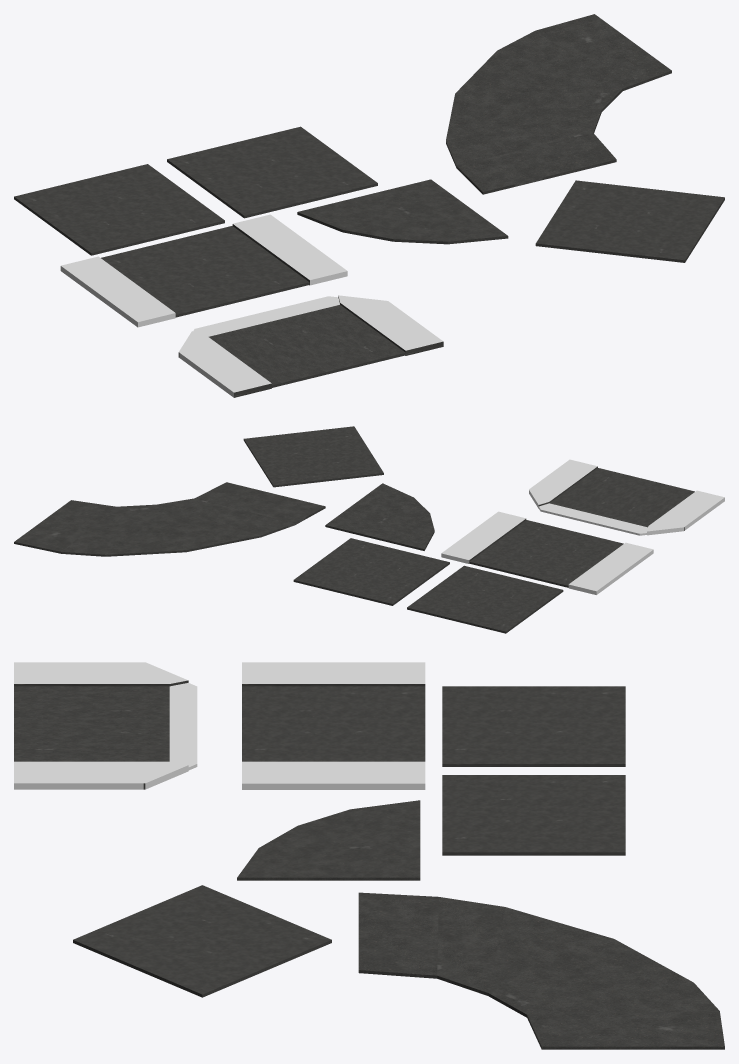
The model's file is raods.glb.
3 views of the same model, one above another, from view 1: azimuth 30°, elevation 25°; view 2: azimuth 150°, elevation 25°; view 3: azimuth 270°, elevation 25° (orthographic). The views are drawn at different scales.
Visible parts, largest first — view 1: Calle Estandar/Ruta Curva Amplia, Calle Estandar/Ruta Recta Con Vereda, Calle Estandar/Ruta Con Vereda Esquina, Calle Estandar/Ruta, Union Calles Estandares/Rutas, Calle Estandar/Ruta.002, Calle Estandar/Ruta Curva Estrecha; view 2: Calle Estandar/Ruta Curva Amplia, Calle Estandar/Ruta Recta Con Vereda, Calle Estandar/Ruta Con Vereda Esquina, Union Calles Estandares/Rutas, Calle Estandar/Ruta, Calle Estandar/Ruta.002, Calle Estandar/Ruta Curva Estrecha; view 3: Calle Estandar/Ruta Curva Amplia, Calle Estandar/Ruta Recta Con Vereda, Calle Estandar/Ruta Con Vereda Esquina, Calle Estandar/Ruta.002, Calle Estandar/Ruta, Union Calles Estandares/Rutas, Calle Estandar/Ruta Curva Estrecha.
Boxes of the visible parts, x1,y1,x2,y2 form: Calle Estandar/Ruta Curva Amplia: [446, 14, 671, 194]; Calle Estandar/Ruta Recta Con Vereda: [60, 214, 347, 327]; Calle Estandar/Ruta Con Vereda Esquina: [178, 295, 443, 397]; Calle Estandar/Ruta: [167, 126, 377, 218]; Union Calles Estandares/Rutas: [14, 164, 224, 255]; Calle Estandar/Ruta.002: [535, 180, 724, 262]; Calle Estandar/Ruta Curva Estrecha: [297, 179, 508, 244]; Calle Estandar/Ruta Curva Amplia: [14, 482, 325, 556]; Calle Estandar/Ruta Recta Con Vereda: [441, 511, 653, 594]; Calle Estandar/Ruta Con Vereda Esquina: [529, 459, 724, 535]; Union Calles Estandares/Rutas: [407, 565, 563, 633]; Calle Estandar/Ruta: [293, 538, 449, 605]; Calle Estandar/Ruta.002: [243, 426, 383, 487]; Calle Estandar/Ruta Curva Estrecha: [325, 483, 434, 550]; Calle Estandar/Ruta Curva Amplia: [358, 892, 724, 1049]; Calle Estandar/Ruta Recta Con Vereda: [242, 662, 425, 789]; Calle Estandar/Ruta Con Vereda Esquina: [14, 662, 197, 789]; Calle Estandar/Ruta.002: [73, 885, 331, 997]; Calle Estandar/Ruta: [442, 775, 625, 855]; Union Calles Estandares/Rutas: [442, 686, 625, 766]; Calle Estandar/Ruta Curva Estrecha: [237, 800, 420, 880].
Bounding box in the file's own units: 32.7 × 0.25 × 25.71.
Materials: 3 (1 with a texture image).
